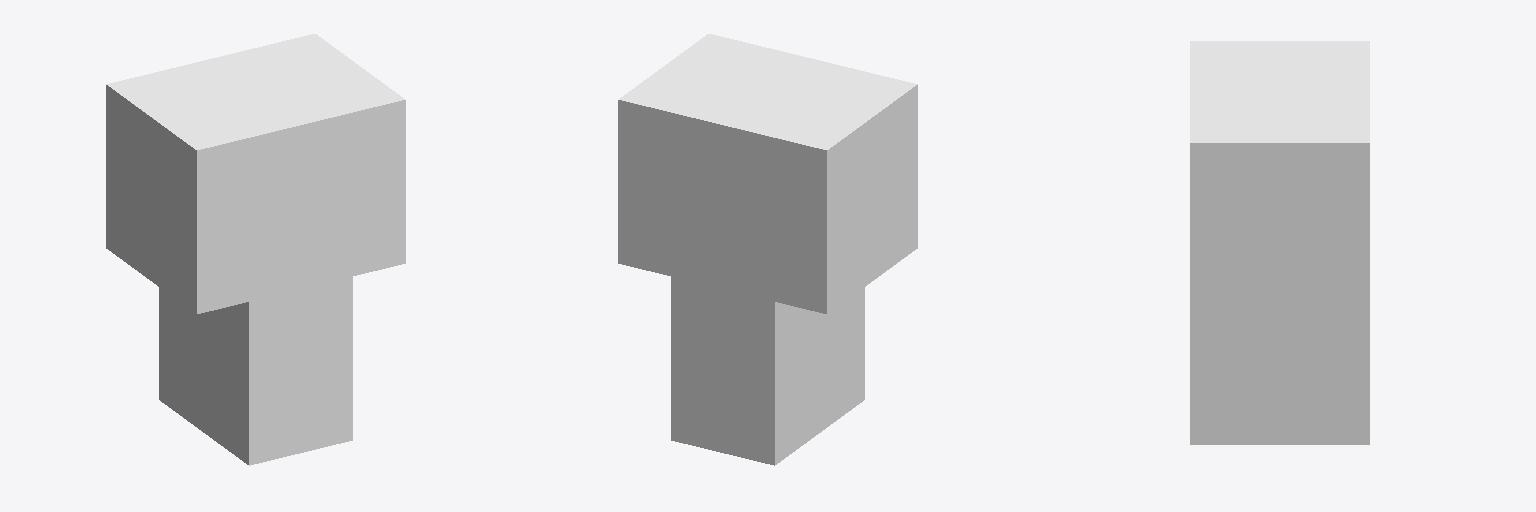
File: headandtorso.vox.obj
3 views of the same model, side by side, from view 1: azimuth 30°, elevation 25°; view 2: azimuth 150°, elevation 25°; view 3: azimuth 270°, elevation 25° (orthographic).
Visible parts, largest first — view 1: object 1; view 2: object 1; view 3: object 1.
Boxes of the visible parts, box(x1,y1,x2,y2) form: object 1: box(106, 34, 405, 465); object 1: box(618, 34, 917, 465); object 1: box(1190, 41, 1369, 444).
Size of the model in its own units: 0.4 by 0.6 by 0.3.